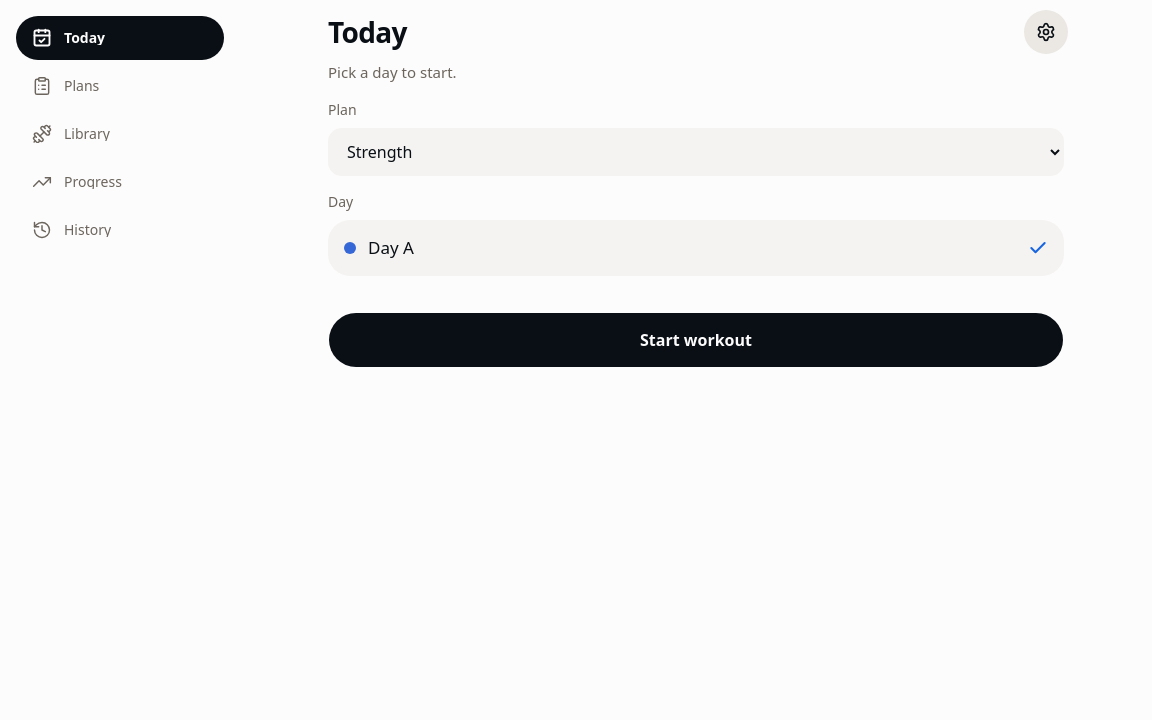
Scenario: a missed set shows missed and keeps the target
The image size is (1152, 720).
Click the button "Start workout".
click(696, 340)  # box [328,312,1064,368]
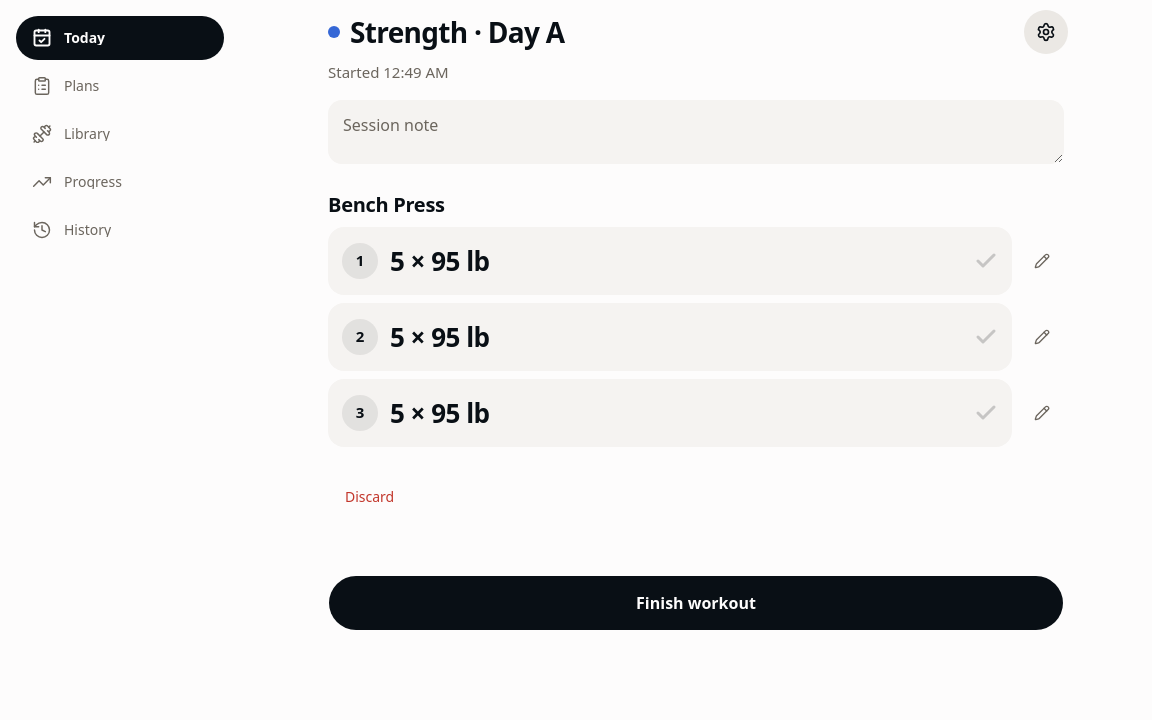
Click the button with aria-label "Set 1:".
click(360, 260)  # box [328,226,1012,294]
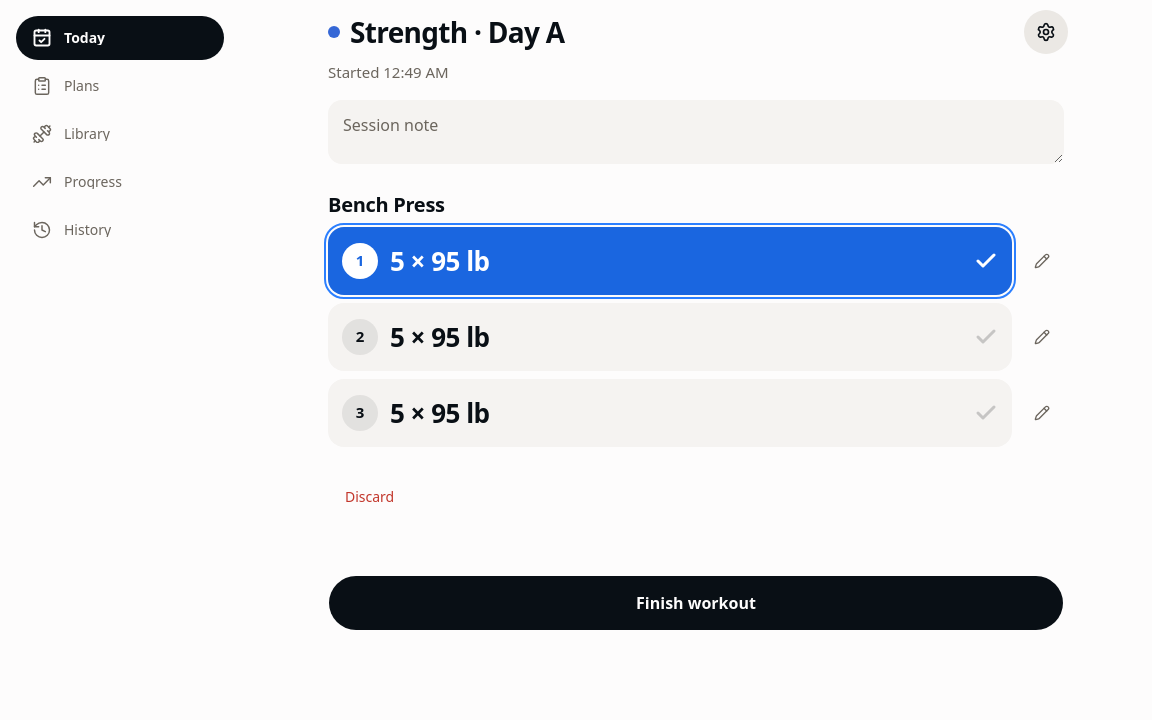
Now the button with aria-label "Set 1:" is pressed, box [328,226,1012,294]
Click the button "Finish workout".
click(696, 602)  # box [328,574,1064,630]
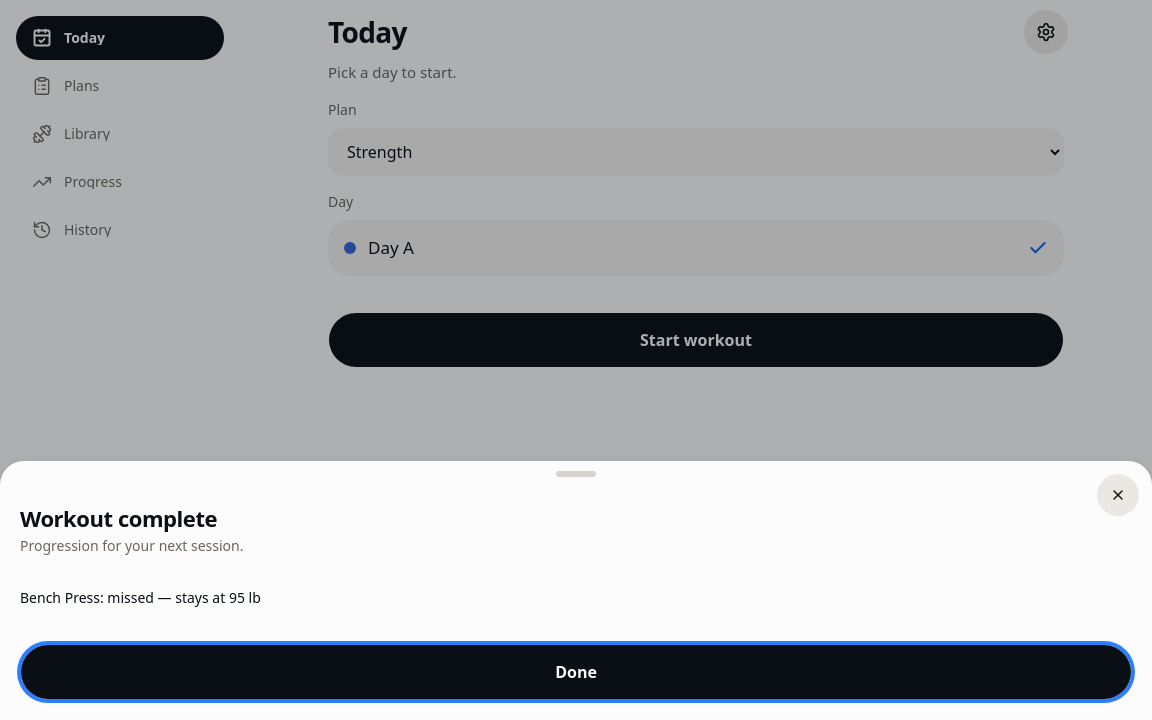
Now the list item "Bench Press: missed — stays at 95 lb" is shown, box [20,588,261,607]
